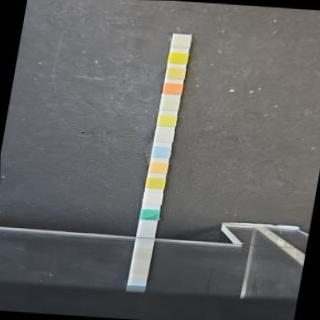mark: (153, 144, 170, 158), (147, 177, 164, 190), (156, 129, 174, 141), (170, 52, 188, 64), (172, 35, 190, 47), (145, 193, 161, 206), (141, 208, 158, 220), (150, 160, 167, 172), (161, 98, 178, 110), (164, 82, 181, 94), (158, 114, 176, 125), (168, 66, 184, 78)
